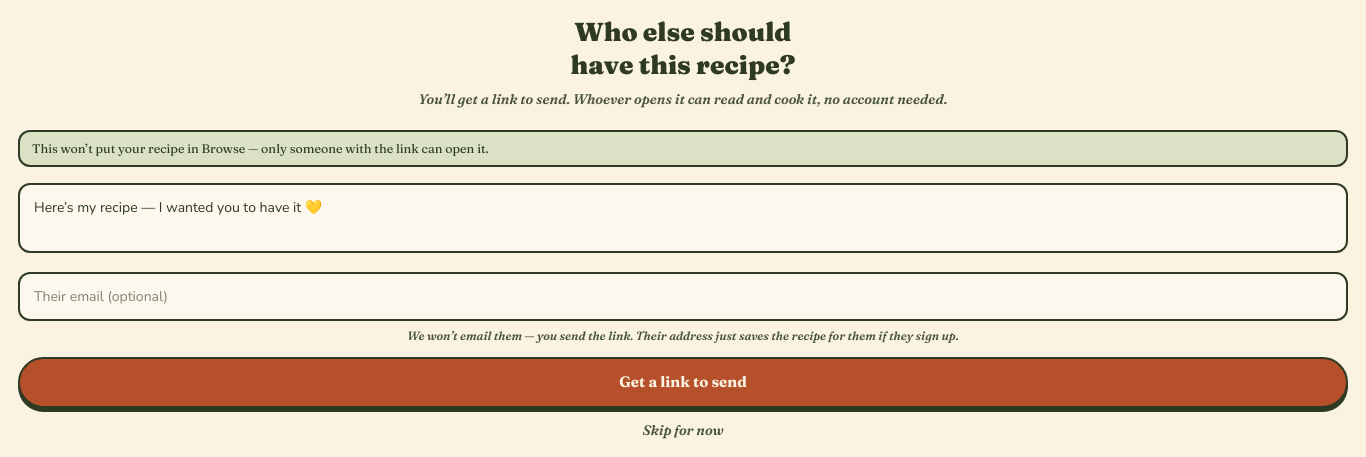
HandoffInvite › sends the handoff and then shows the shareable invite link
The image size is (1366, 457).
Type "mom@example.com" into the field with placeholder "Their email (optional)" at (683, 297), box [18,272,1348,321]
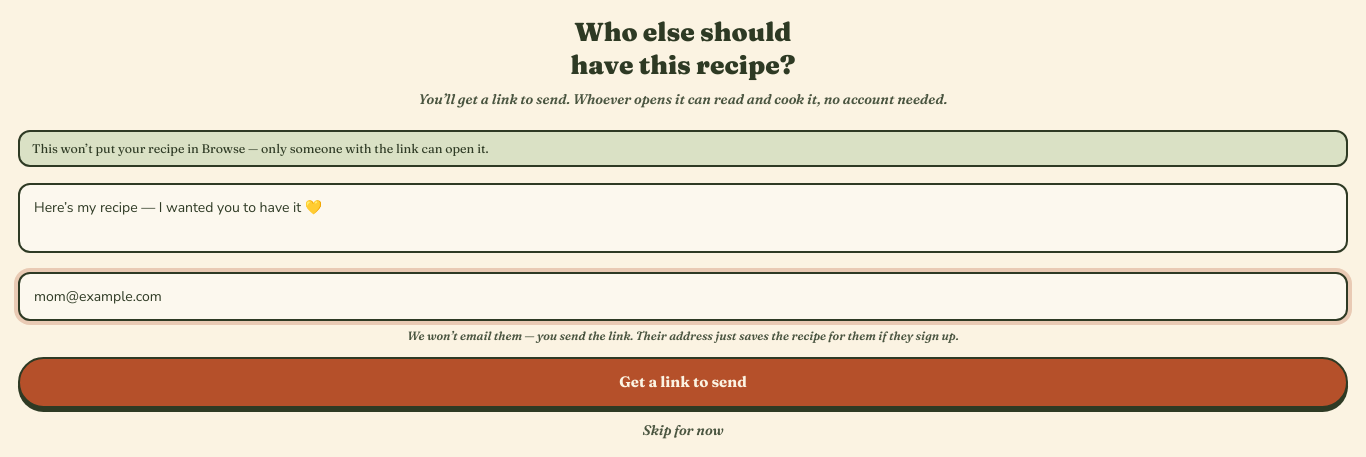
Replace the text in the text box with placeholder "A note in your words… (optional)" with "your adobo" at (683, 218), box [18,183,1348,253]
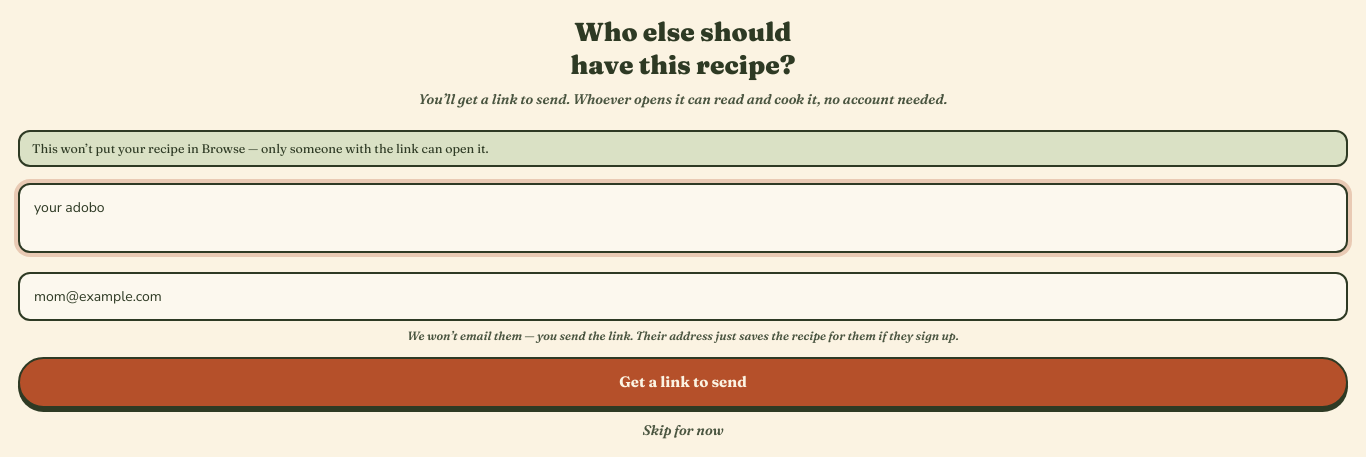
Click the button "Get a link to send" at (683, 382), box [18,357,1348,408]
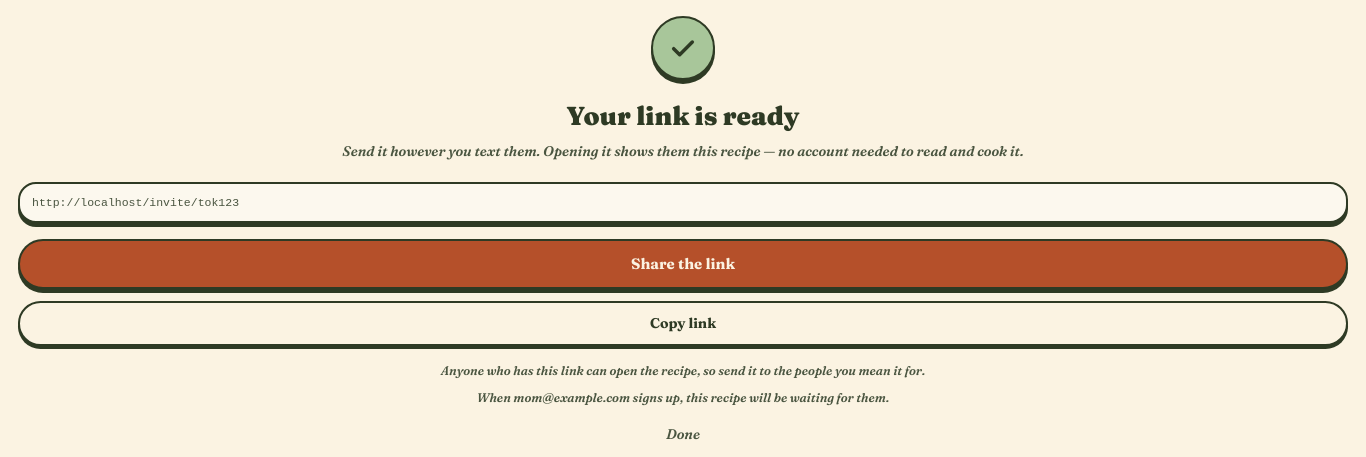
Result: the text "http://localhost/invite/tok123" is shown at [18,182,1348,223]
Result: the button "Share the link" is shown at [18,239,1348,289]
